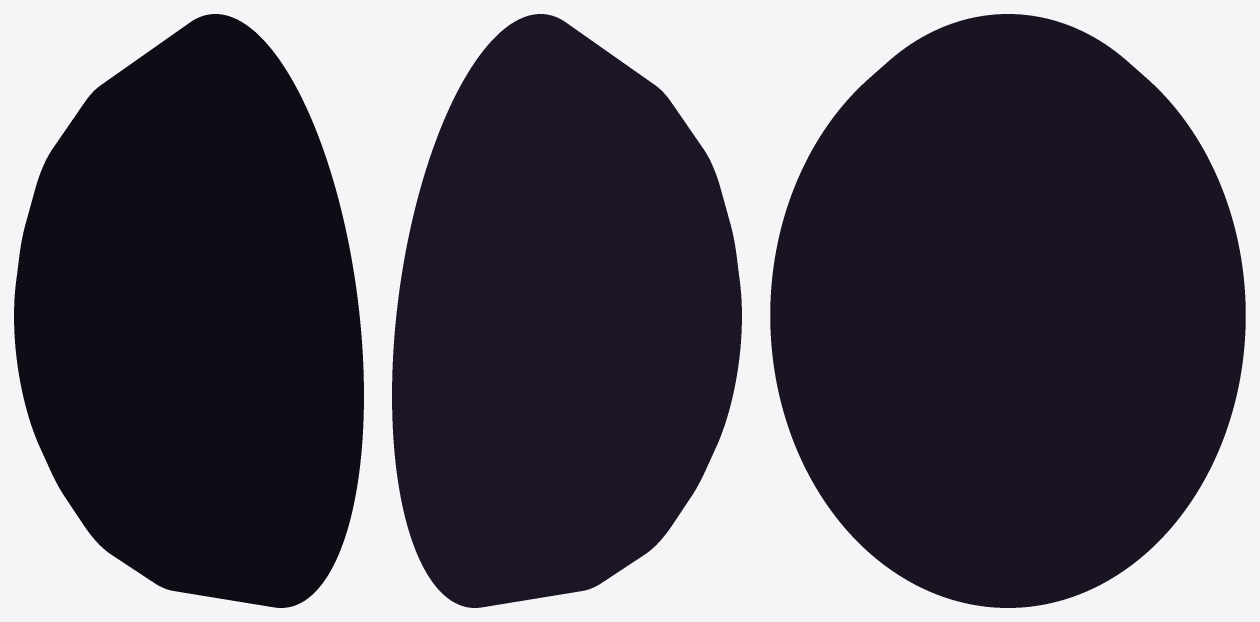
The model's file is Inside-Frame.fbx.
3 renders of one model, left to right at view 1: azimuth 30°, elevation 25°; view 2: azimuth 150°, elevation 25°; view 3: azimuth 270°, elevation 25°, orthographic. The views are drawn at different scales.
Parts seen in each view (by area): view 1: Picture; view 2: Picture; view 3: Picture.
Part boxes in pixels (bbox=[...]): Picture: bbox=[14, 14, 363, 607]; Picture: bbox=[392, 14, 741, 607]; Picture: bbox=[770, 14, 1245, 607].
Size of the model in its own units: 0.6743 by 1.9 by 1.4.
